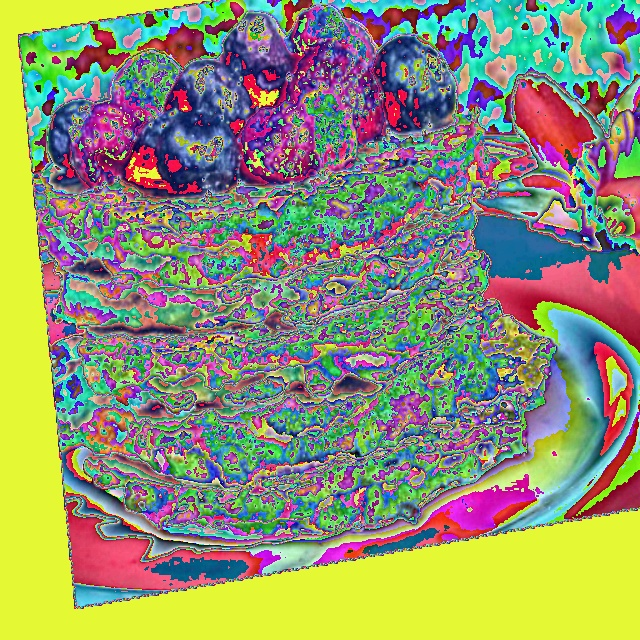background: (33, 5, 557, 543)
